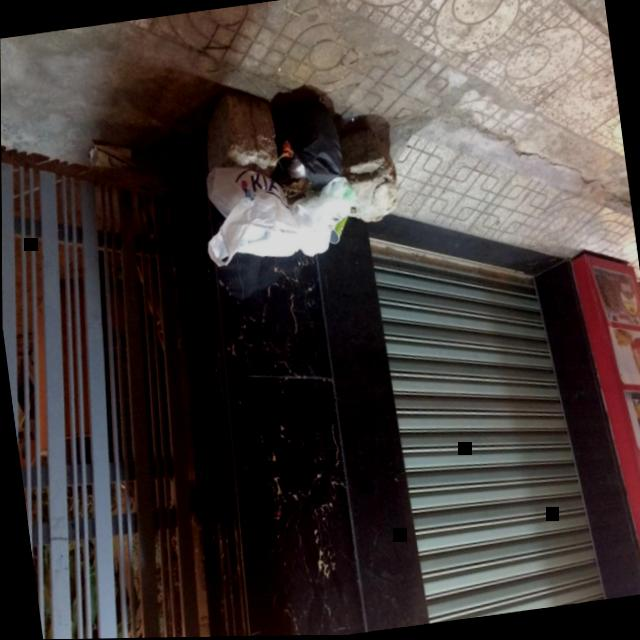Garbage bag: (269, 97, 341, 190)
Single-use carrier bag: (205, 165, 298, 266), (288, 178, 353, 254)
Unlabeled litter: (88, 144, 133, 165), (328, 219, 345, 245), (282, 156, 303, 177)
